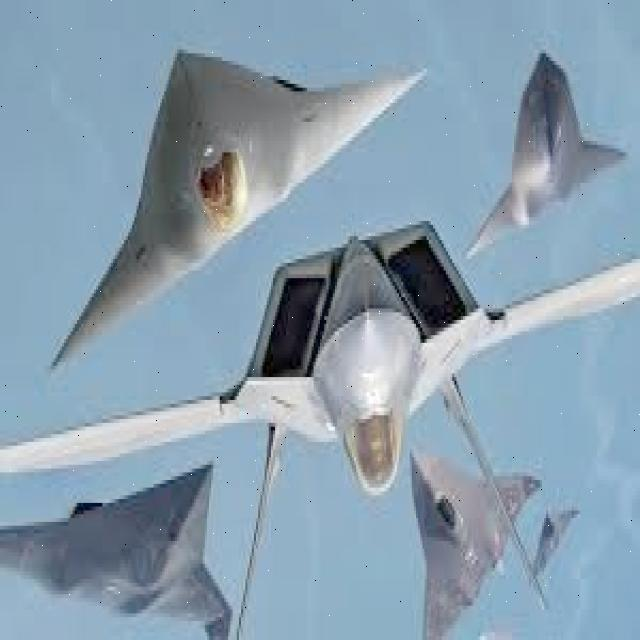F22: (0, 220, 640, 640), (32, 9, 428, 412), (0, 442, 265, 640), (451, 43, 640, 277), (398, 415, 581, 640)
